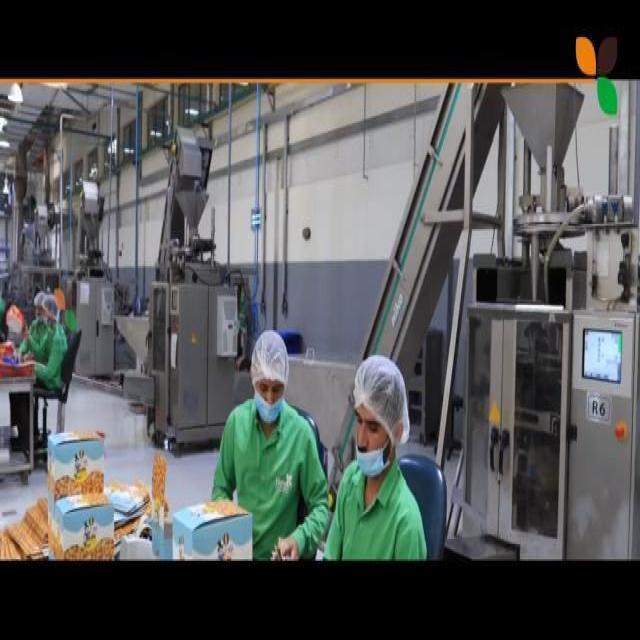bare_hand: (272, 529, 311, 559)
